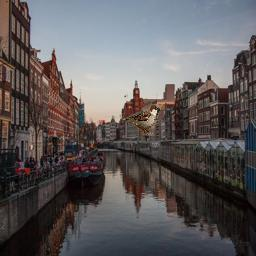Sparrow: (121, 104, 161, 136)
